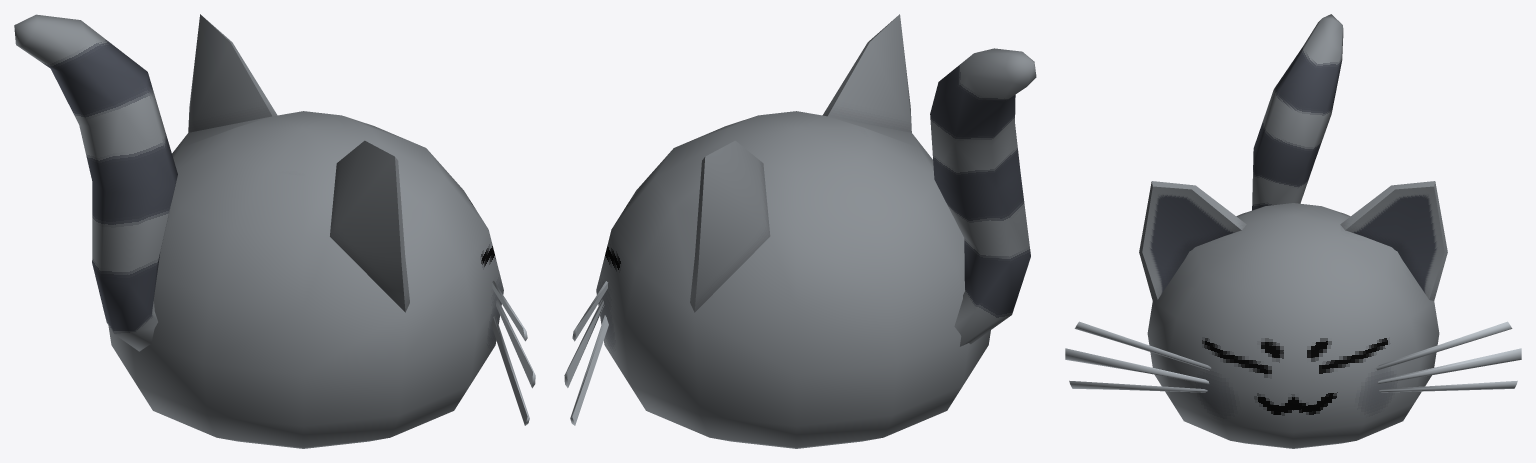
The model's file is Cat.glb.
The picture shows the model from 3 angles, left to right: view 1: azimuth 30°, elevation 25°; view 2: azimuth 150°, elevation 25°; view 3: azimuth 270°, elevation 25°; orthographic projection. The views are drawn at different scales.
Parts seen in each view (by area): view 1: Sphere.001; view 2: Sphere.001; view 3: Sphere.001.
Part boxes in pixels (left/top/right/bottom): Sphere.001: left=14, top=14, right=535, bottom=448; Sphere.001: left=564, top=14, right=1036, bottom=448; Sphere.001: left=1065, top=14, right=1521, bottom=448.
Size of the model in its own units: 0.755 by 0.6895 by 0.9379.
1 material, 1 textured.
